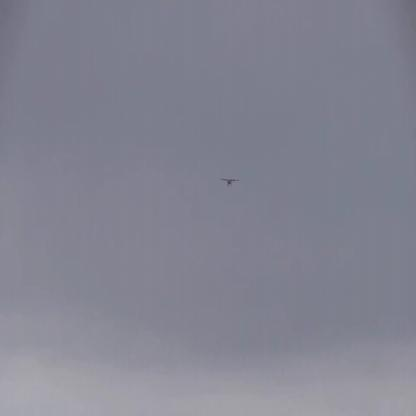CIV_Plane: (219, 178, 239, 187)
